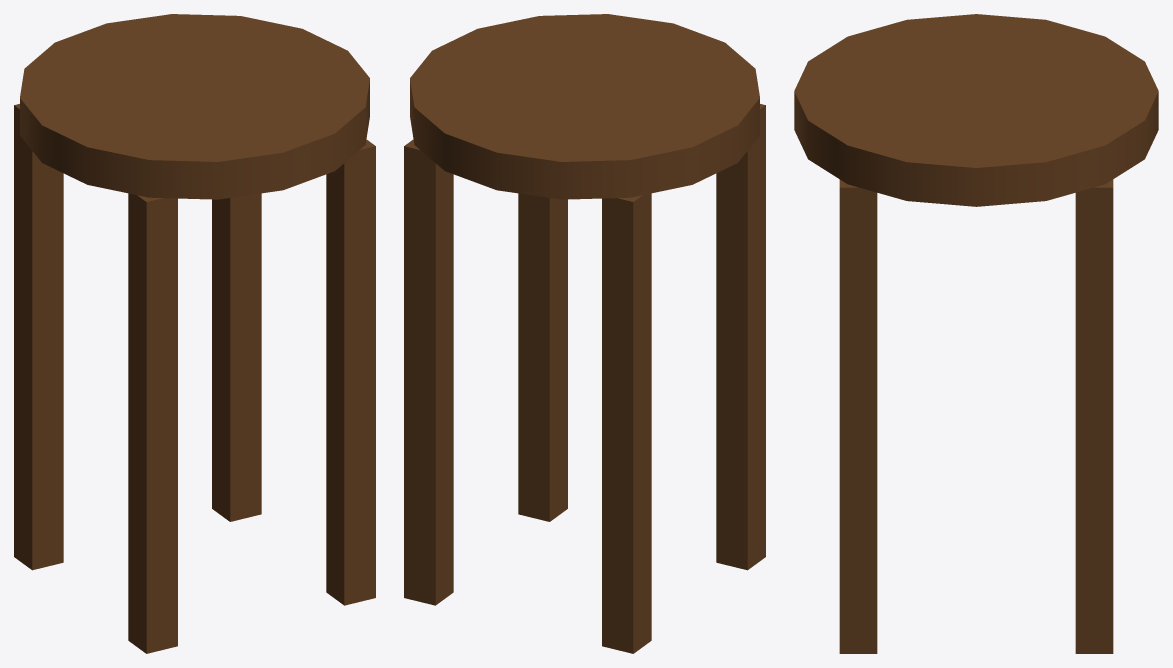
Rendered from stool.obj.
3 renders of one model, left to right at view 1: azimuth 30°, elevation 25°; view 2: azimuth 150°, elevation 25°; view 3: azimuth 270°, elevation 25°, orthographic. The views are drawn at different scales.
Parts seen in each view (by area): view 1: stool_0, stool_3, stool_4, stool_1, stool_2; view 2: stool_0, stool_1, stool_2, stool_3, stool_4; view 3: stool_0, stool_2, stool_4.
Part boxes in pixels (x1,y1,x2,y2): stool_0: (20, 14, 369, 199); stool_3: (128, 193, 177, 653); stool_4: (326, 139, 375, 605); stool_1: (14, 104, 63, 570); stool_2: (212, 193, 261, 521); stool_0: (410, 14, 759, 199); stool_1: (602, 193, 651, 653); stool_2: (404, 139, 453, 605); stool_3: (716, 104, 765, 570); stool_4: (518, 193, 567, 521); stool_0: (794, 14, 1158, 206); stool_2: (1075, 179, 1113, 653); stool_4: (839, 179, 877, 653).
Size of the model in its own units: 0.34 by 0.52 by 0.34.
